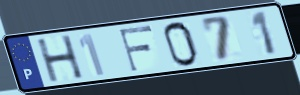0: (161, 20, 201, 68)
1: (249, 9, 279, 58), (77, 32, 106, 77)
7: (199, 14, 236, 64)
F: (117, 24, 155, 74)
H: (34, 33, 87, 84)
